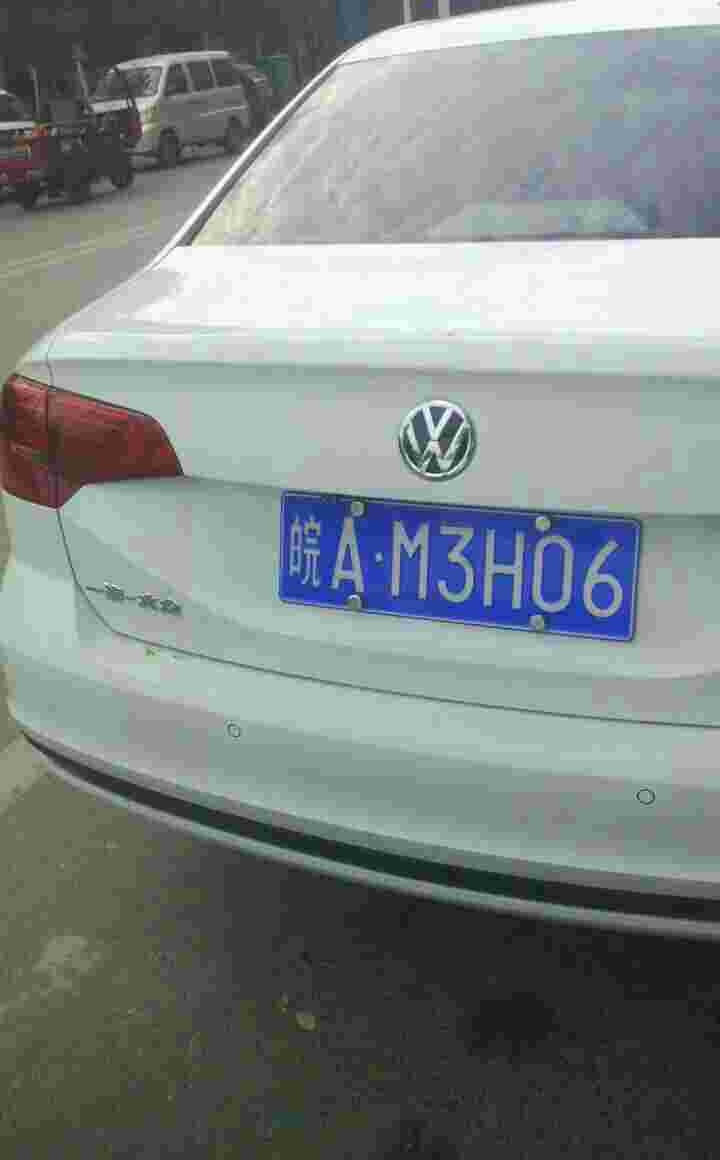license_plate: (280, 488, 643, 637)
